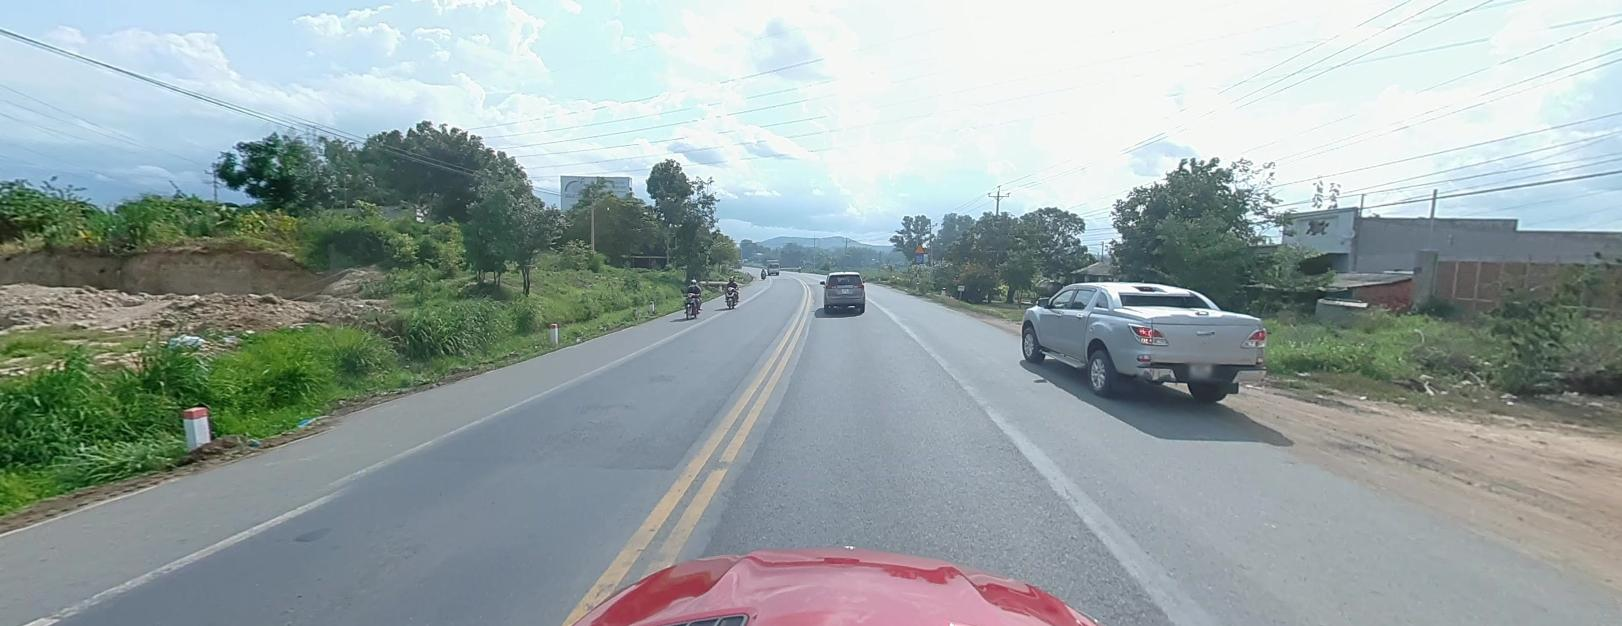Nguy hiem: (913, 242, 925, 251), (914, 243, 924, 251)
